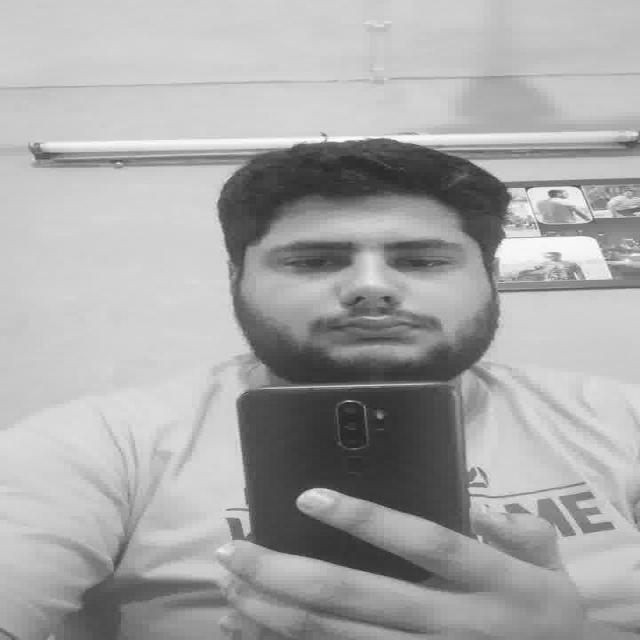fake: (230, 372, 468, 570)
real: (237, 191, 500, 367)
